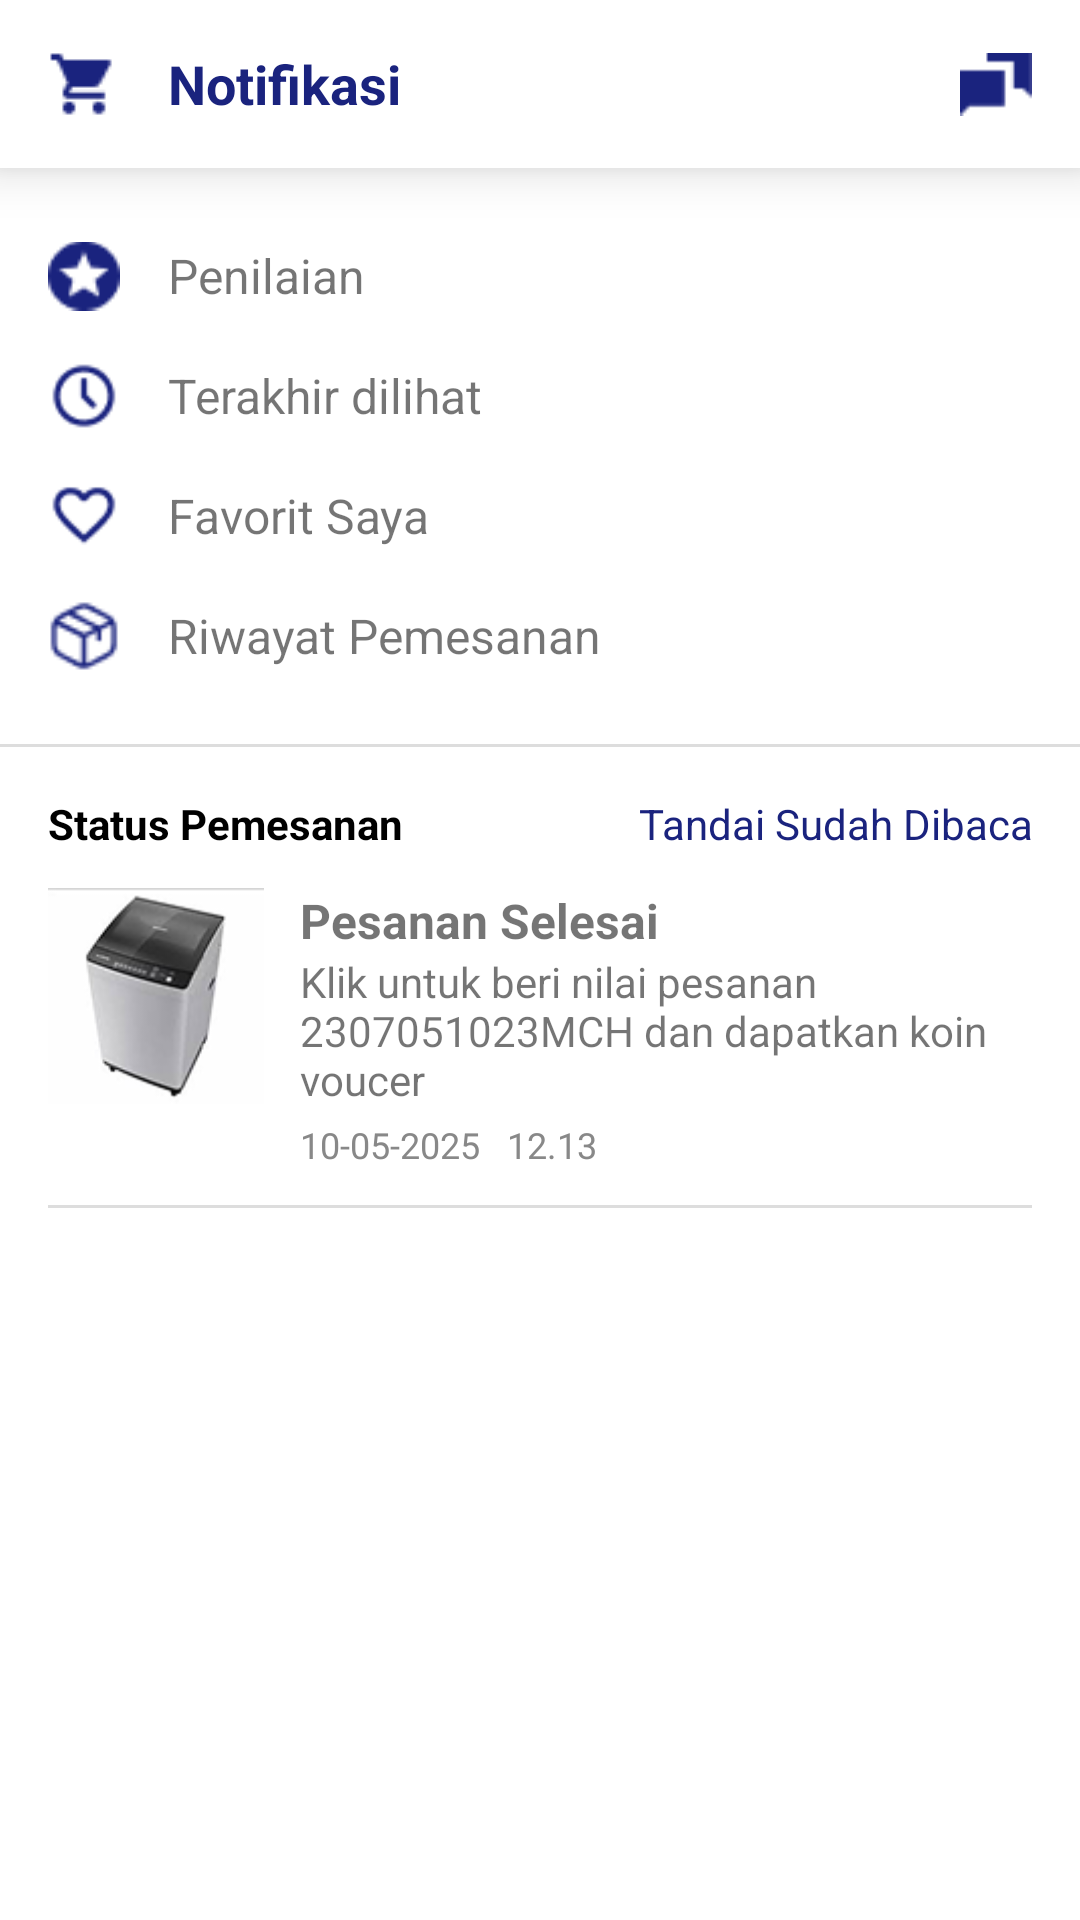

Icon click points for this 1080w x 1920h phone screenshot, format (x=x, y=y):
box: (x=84, y=636)
cart: (x=81, y=84)
clock: (x=84, y=396)
heart: (x=84, y=515)
mesin cuci: (x=156, y=992)
star: (x=84, y=276)
